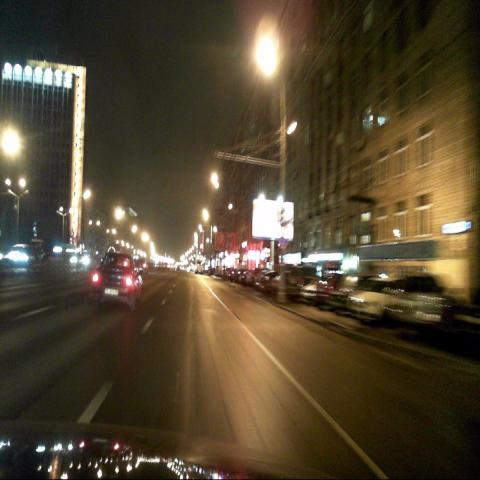3_27: (280, 236, 287, 250)
